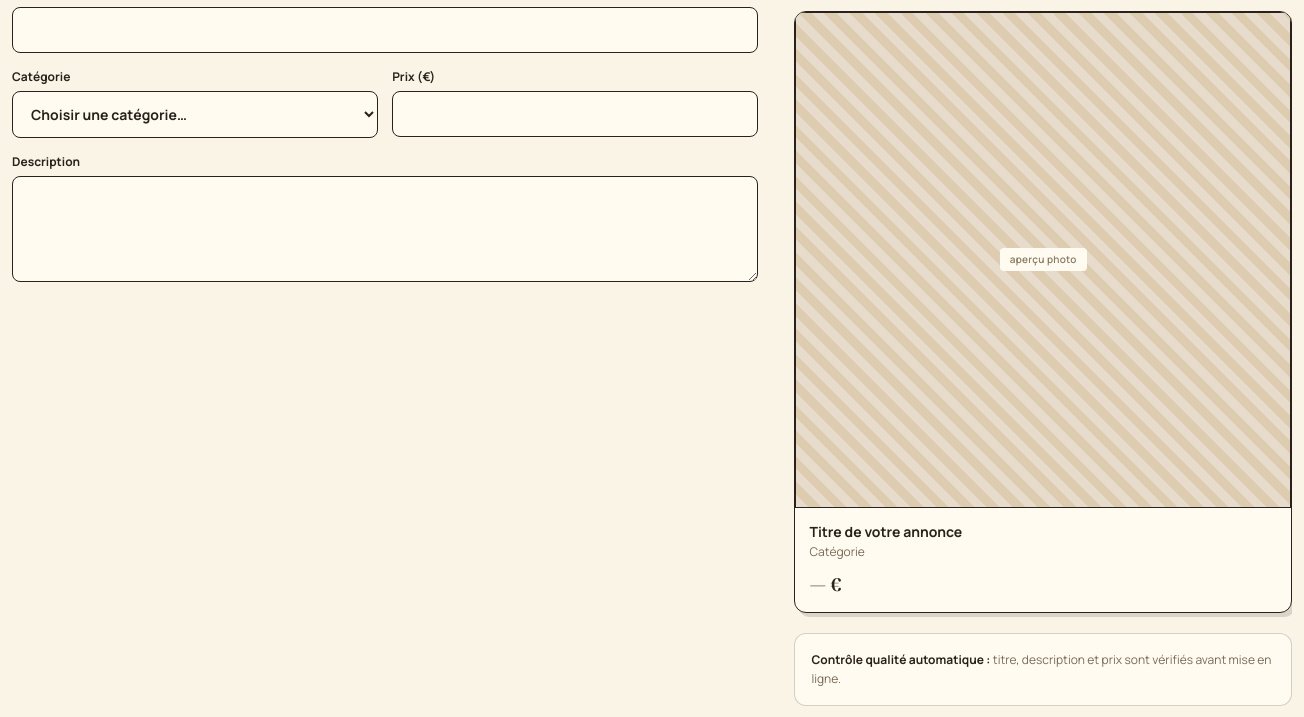
Test: NewListingPage › shows a rejection message when moderation fails
Type "ab" into the field labelled "Titre de l'annonce". click: [385, 30]
box: [12,7,758,53]
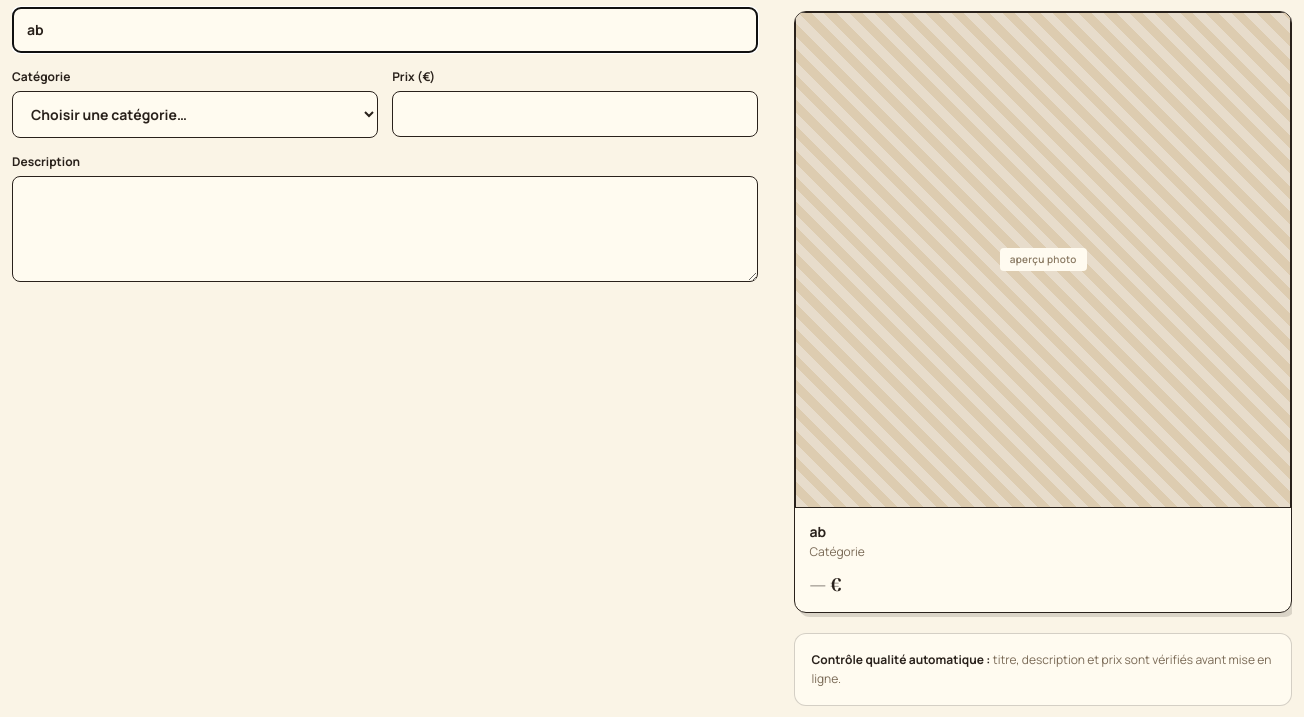
Type "x" into the text box labelled "Description". click: [385, 229]
box: [12,176,758,282]
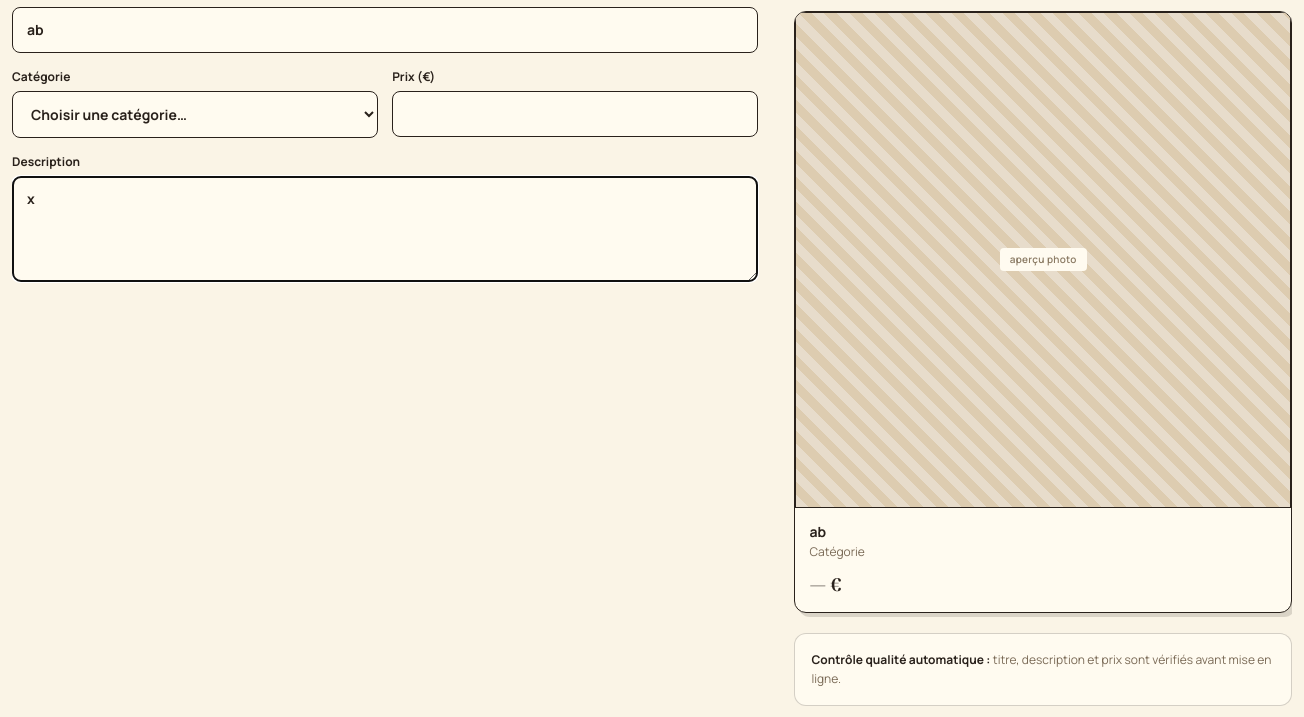
Type "1" into the number field labelled "Prix (€)". click: [575, 114]
box: [392,91,758,137]
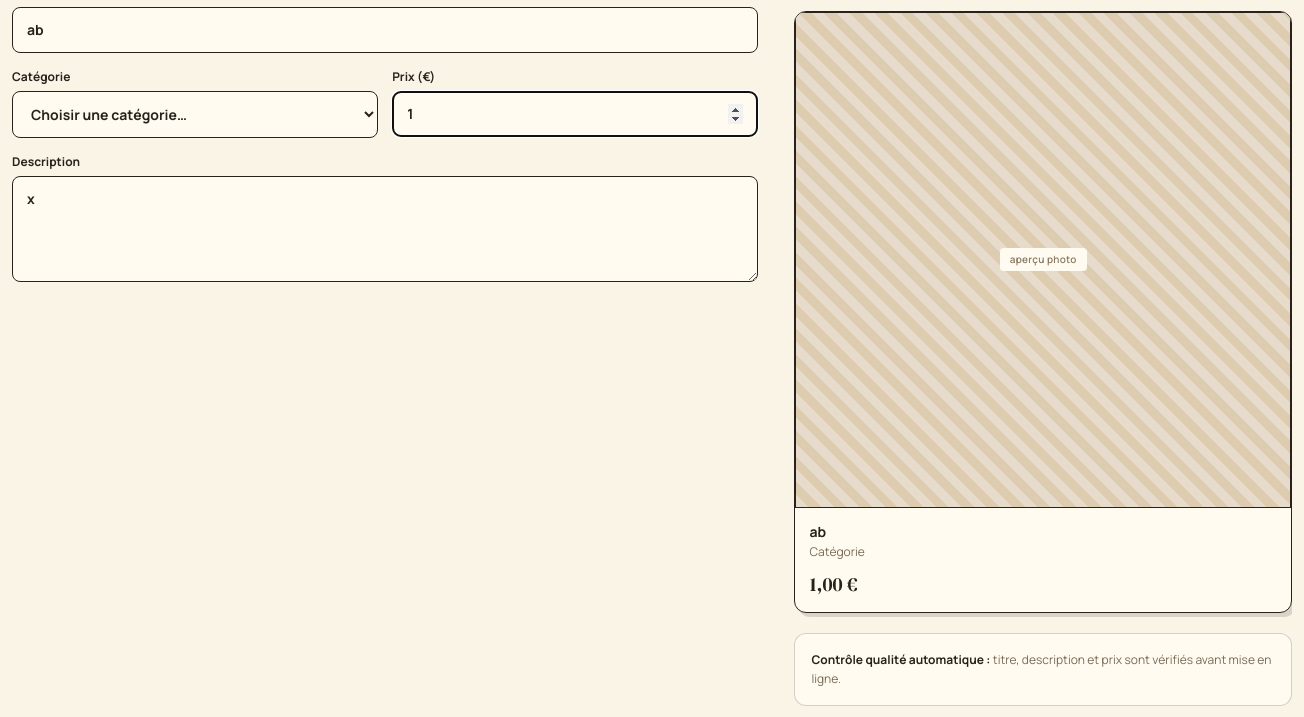
Select "Figurines" in the dropdown labelled "Catégorie". click: [195, 114]
box: [12,91,378,138]
(page scrolled)
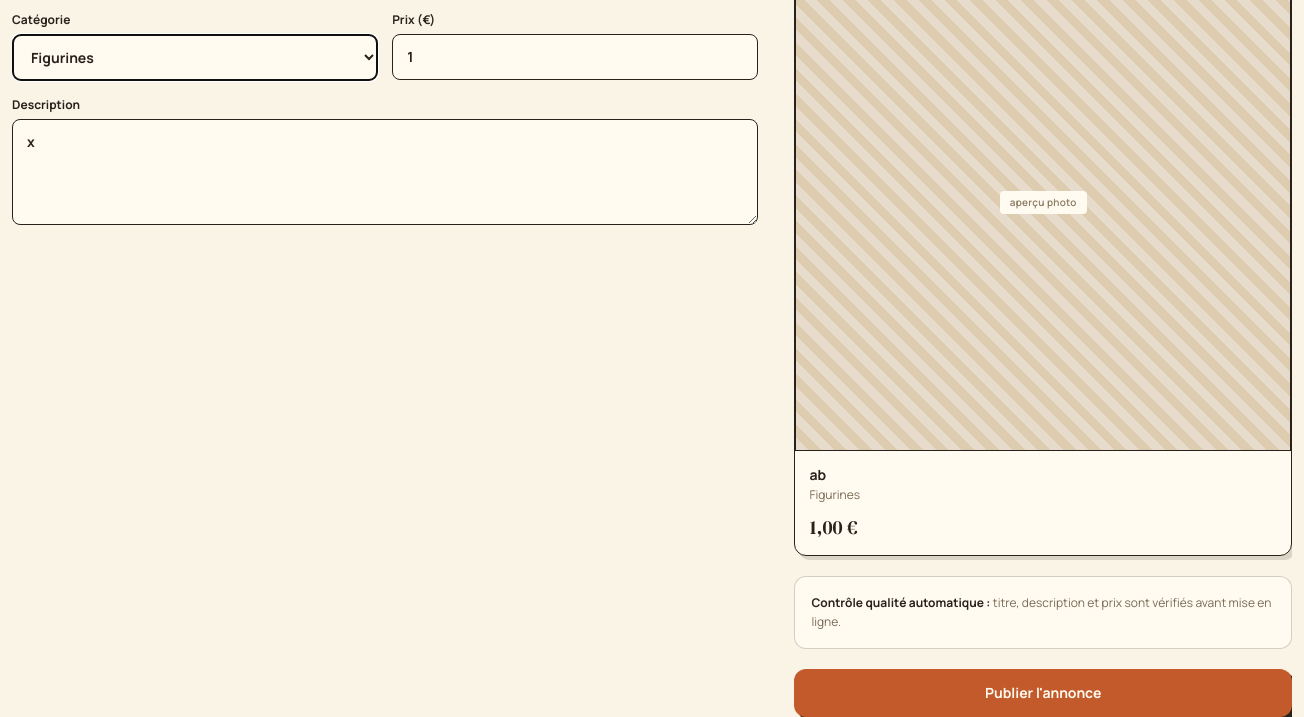
Click the button "Publier l'annonce". click: [1043, 693]
box: [794,669,1292,716]
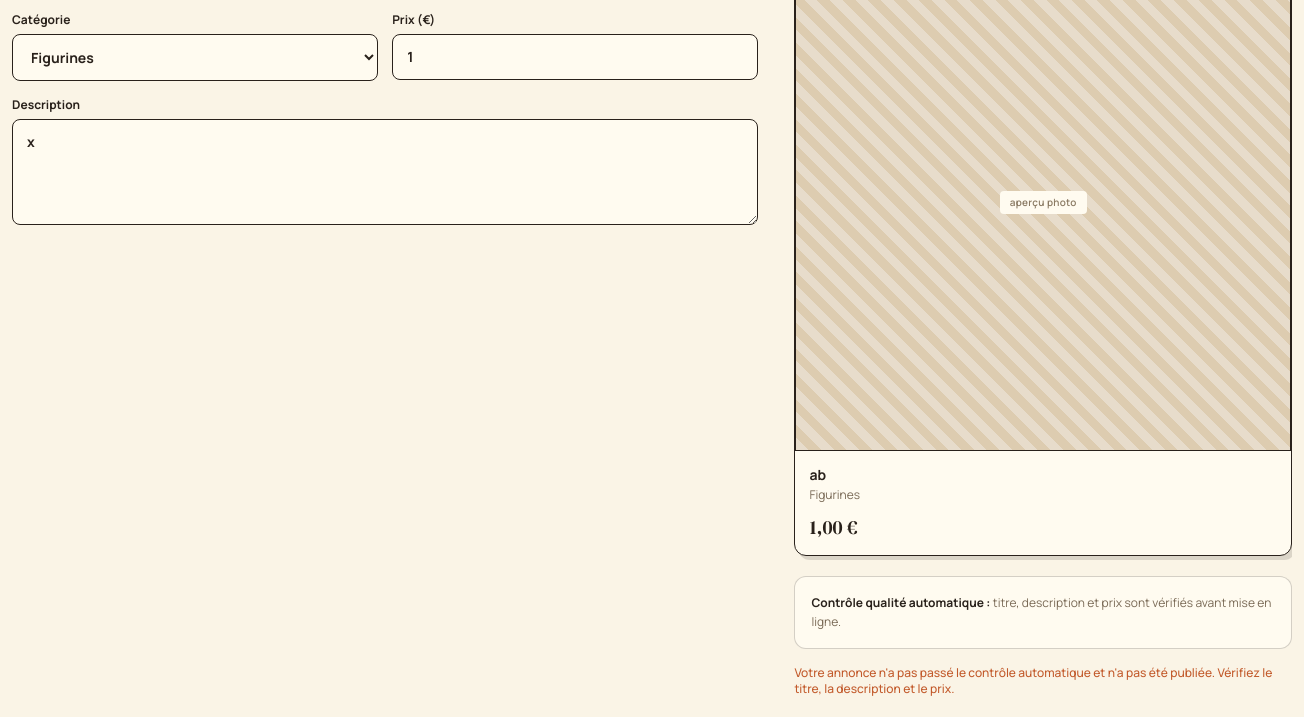
Check: the text "Votre annonce n'a pas passé le contrôle automatique et n'a pas été publiée. Vérifiez le titre, la description et le prix" is shown, box [794,664,1272,697]
